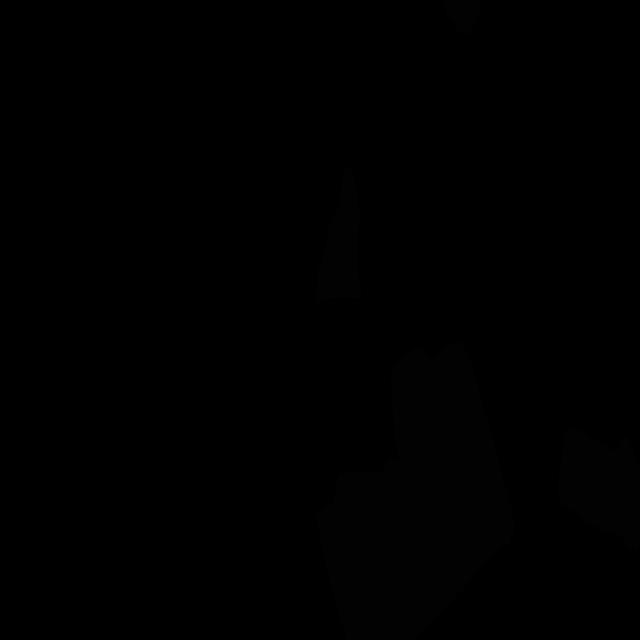cardboard: (316, 341, 516, 640), (558, 427, 640, 551), (316, 167, 362, 302), (439, 0, 481, 35)
